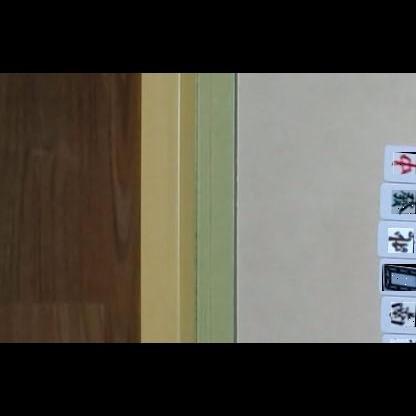1z: (390, 339, 416, 343)
2z: (391, 302, 416, 327)
4z: (388, 228, 414, 253)
5z: (382, 264, 416, 291)
6z: (391, 190, 416, 214)
7z: (393, 152, 416, 174)
